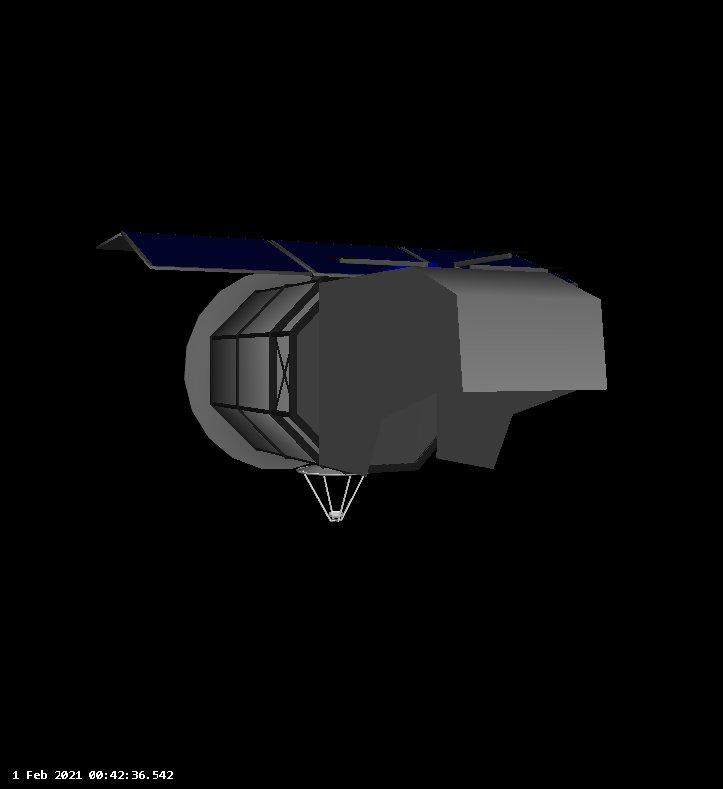antenna: (181, 270, 310, 474), (291, 462, 368, 526)
body: (206, 274, 610, 476)
solar: (92, 227, 570, 280)
